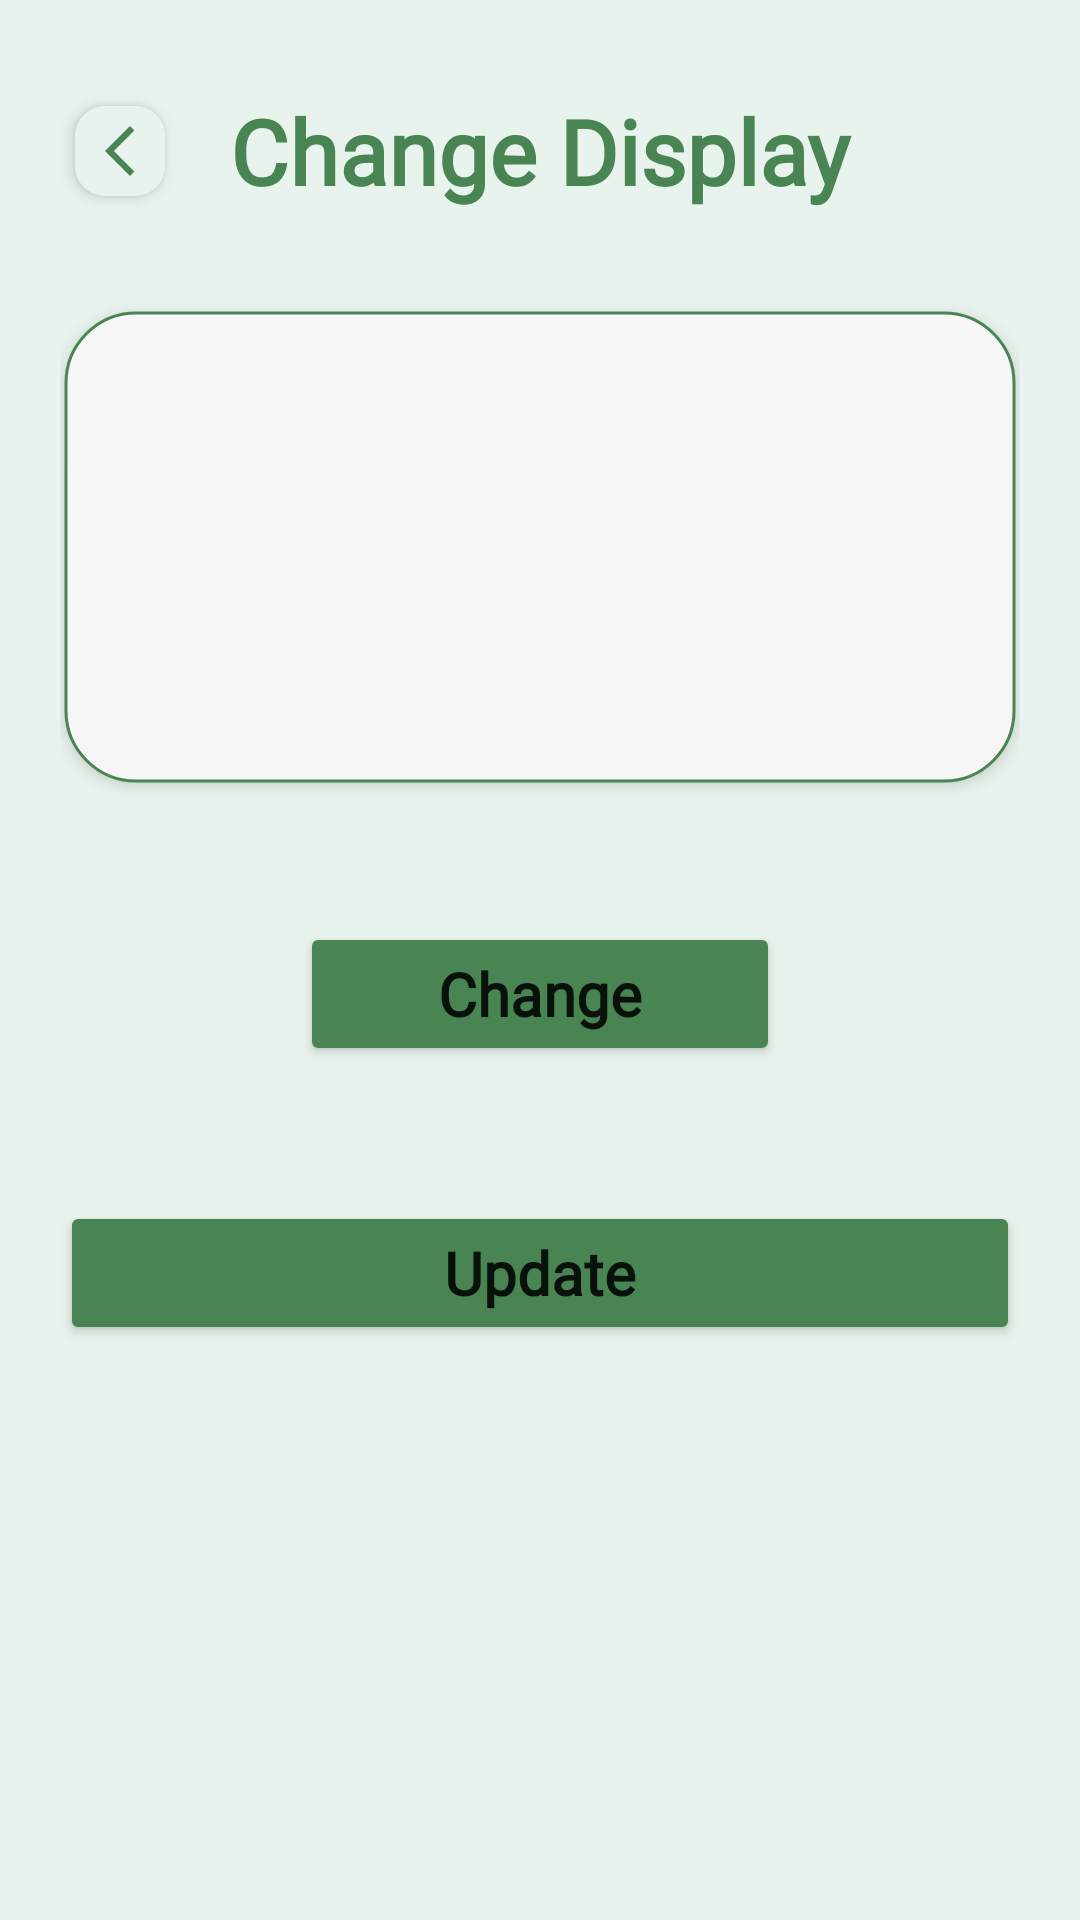

Point at icon controls on the screen. Image size 1080 × 1920, points as [x,y].
back: [120,151]
